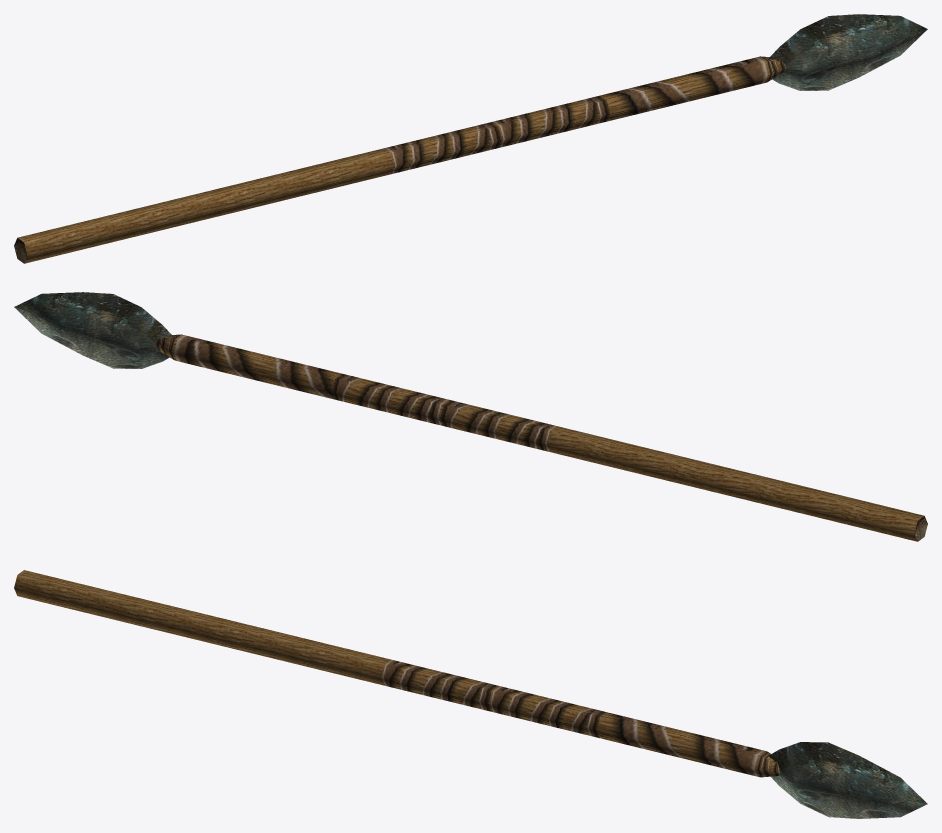
3 renders of one model, top to bottom at view 1: azimuth 30°, elevation 25°; view 2: azimuth 150°, elevation 25°; view 3: azimuth 330°, elevation 25°, orthographic.
Visible parts, largest first — view 1: IT10107_DMSPRITEDEF_node; view 2: IT10107_DMSPRITEDEF_node; view 3: IT10107_DMSPRITEDEF_node.
Boxes of the visible parts, left/top/right/bottom form: IT10107_DMSPRITEDEF_node: left=14, top=14, right=927, bottom=263; IT10107_DMSPRITEDEF_node: left=14, top=292, right=927, bottom=541; IT10107_DMSPRITEDEF_node: left=14, top=570, right=927, bottom=818.
Bounding box in the file's own units: 3.88 × 0.3051 × 0.1.
4 materials, 4 textured.
